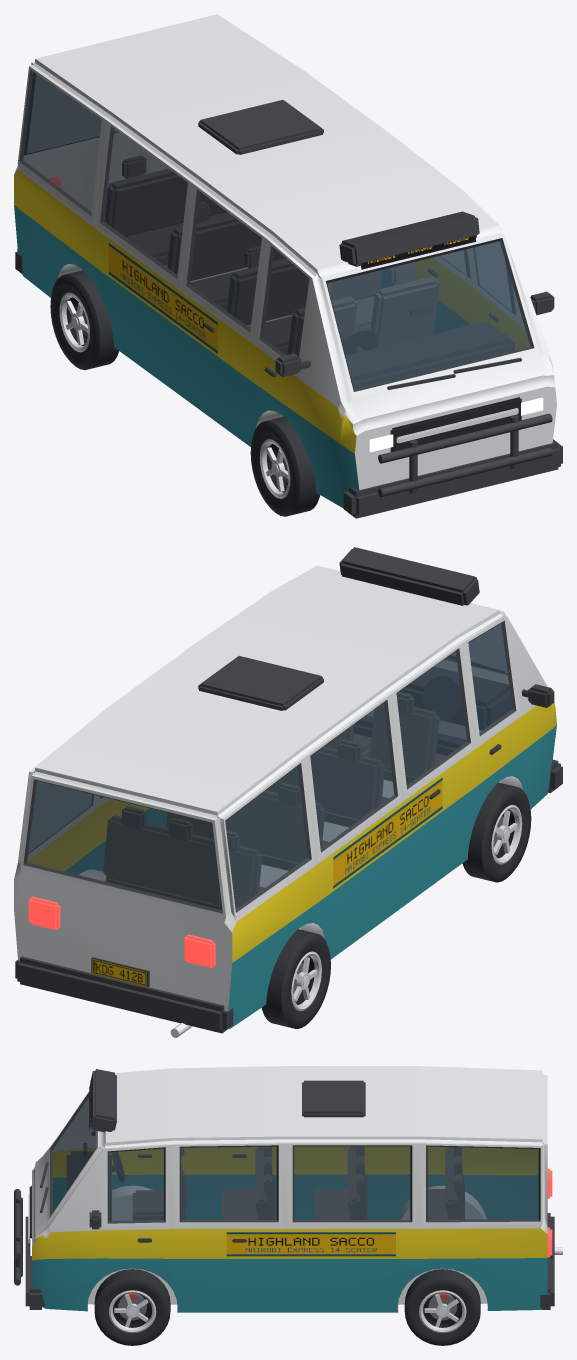
The model's file is Kenya_Matatu_14Seater_PSV.glb.
The picture shows the model from 3 angles, top to bottom: view 1: azimuth 30°, elevation 25°; view 2: azimuth 150°, elevation 25°; view 3: azimuth 270°, elevation 25°; orthographic projection. The views are drawn at different scales.
Visible parts, largest first — view 1: Matatu_Body, CabinDashCowl, Wheel_FR, Wheel_RR, FrontBumper, BenchBack_3, BenchBack_1, RoofVentHatch, PsvDestHousing, BenchBack_2, MatatuSaccoR, SeatBack_0_-0.36 (+10 smaller); view 2: Matatu_Body, BenchBack_3, RearBumper, Wheel_RR, Wheel_FR, BenchBack_2, PsvDestHousing, BenchBack_1, RoofVentHatch, MatatuSaccoR, SeatBack_0_0.36, CabinDashCowl (+5 smaller); view 3: Matatu_Body, Wheel_FL, Wheel_RL, MatatuSaccoL, RoofVentHatch, PsvDestHousing, BenchCush_2, BenchCush_1, BenchBack_3, BenchBack_1, BenchBack_2, SeatCush_0_0.36 (+5 smaller).
Part boxes in pixels (bbox=[...]): Matatu_Body: bbox=[14, 14, 556, 508]; CabinDashCowl: bbox=[346, 321, 514, 389]; Wheel_FR: bbox=[250, 416, 320, 516]; Wheel_RR: bbox=[50, 270, 119, 369]; FrontBumper: bbox=[343, 439, 562, 518]; BenchBack_3: bbox=[104, 169, 224, 235]; BenchBack_1: bbox=[227, 259, 381, 325]; RoofVentHatch: bbox=[198, 100, 323, 154]; PsvDestHousing: bbox=[339, 211, 479, 266]; BenchBack_2: bbox=[167, 215, 284, 280]; MatatuSaccoR: bbox=[108, 243, 217, 353]; SeatBack_0_-0.36: bbox=[371, 276, 439, 347]; Matatu_Body: bbox=[14, 565, 556, 1029]; BenchBack_3: bbox=[103, 815, 261, 908]; RearBumper: bbox=[15, 956, 233, 1033]; Wheel_RR: bbox=[261, 929, 330, 1028]; Wheel_FR: bbox=[462, 782, 531, 882]; BenchBack_2: bbox=[166, 790, 324, 862]; PsvDestHousing: bbox=[339, 547, 479, 605]; BenchBack_1: bbox=[266, 746, 384, 819]; RoofVentHatch: bbox=[198, 656, 323, 710]; MatatuSaccoR: bbox=[333, 777, 442, 888]; SeatBack_0_0.36: bbox=[369, 702, 439, 777]; CabinDashCowl: bbox=[399, 666, 511, 729]; Matatu_Body: bbox=[32, 1066, 547, 1312]; Wheel_FL: bbox=[94, 1269, 170, 1345]; Wheel_RL: bbox=[404, 1269, 480, 1345]; MatatuSaccoL: bbox=[226, 1232, 395, 1256]; RoofVentHatch: bbox=[302, 1080, 365, 1117]; PsvDestHousing: bbox=[90, 1069, 116, 1132]; BenchCush_2: bbox=[314, 1189, 350, 1219]; BenchCush_1: bbox=[222, 1189, 257, 1219]; BenchBack_3: bbox=[445, 1147, 464, 1219]; BenchBack_1: bbox=[255, 1147, 274, 1219]; BenchBack_2: bbox=[348, 1146, 366, 1219]; SeatCush_0_0.36: bbox=[133, 1190, 163, 1220].
Size of the model in its own units: 2.39 by 2.26 by 5.34.
21 materials, 3 textured.
